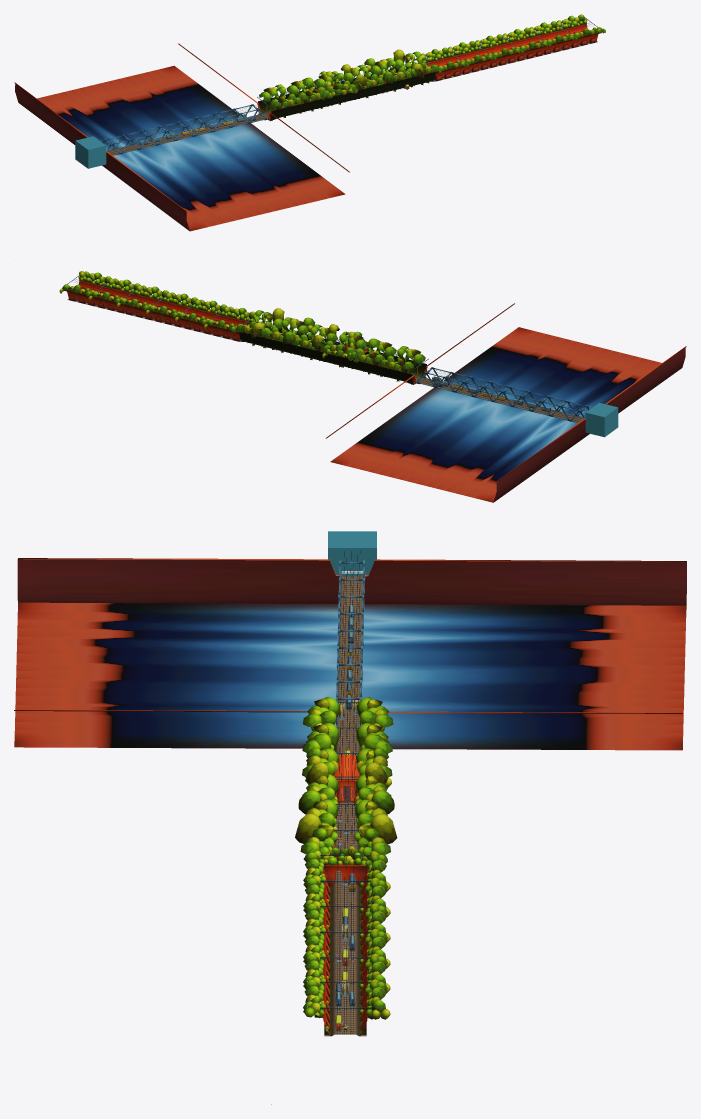
Rendered from subway_map.glb.
The picture shows the model from 3 angles, top to bottom: view 1: azimuth 30°, elevation 25°; view 2: azimuth 150°, elevation 25°; view 3: azimuth 270°, elevation 25°; orthographic projection. The views are drawn at different scales.
Visible parts, largest first — view 1: Object_11, Object_15, Object_14, Object_12, Object_13, Object_2, Object_17; view 2: Object_11, Object_15, Object_12, Object_14, Object_13, Object_2, Object_17; view 3: Object_11, Object_15, Object_14, Object_13, Object_12, Object_16, Object_2, Object_17.
Boxes of the visible parts, box(x1,y1,x2,y2) form: Object_11: box(14, 43, 349, 231); Object_15: box(257, 49, 441, 120); Object_14: box(529, 14, 605, 55); Object_12: box(475, 27, 551, 68); Object_13: box(421, 41, 496, 81); Object_2: box(75, 136, 106, 168); Object_17: box(139, 71, 434, 145); Object_11: box(325, 303, 686, 502); Object_15: box(232, 308, 426, 384); Object_12: box(117, 285, 197, 327); Object_14: box(59, 271, 140, 313); Object_13: box(175, 299, 255, 341); Object_2: box(585, 402, 618, 437); Object_17: box(240, 331, 550, 412); Object_11: box(14, 551, 686, 750); Object_15: box(295, 697, 397, 881); Object_14: box(303, 953, 390, 1036); Object_13: box(303, 852, 390, 934); Object_12: box(303, 903, 390, 985); Object_16: box(305, 750, 391, 886); Object_2: box(328, 531, 376, 575); Object_17: box(335, 604, 359, 1006).
Size of the model in its own units: 924 by 57.27 by 482.
Materials: 10 (8 with a texture image).
